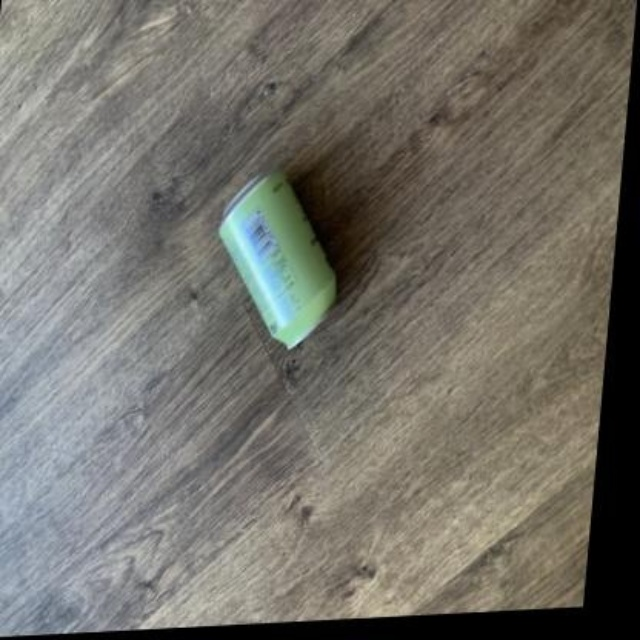trash: (220, 172, 334, 346)
